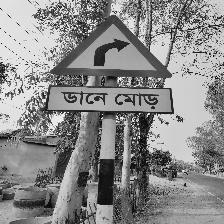Right-turn: (46, 16, 175, 116)
